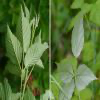Raspberry leaf: (16, 4, 32, 53), (71, 3, 85, 58), (74, 63, 99, 92), (6, 23, 23, 65), (24, 42, 48, 69), (54, 59, 73, 85)
